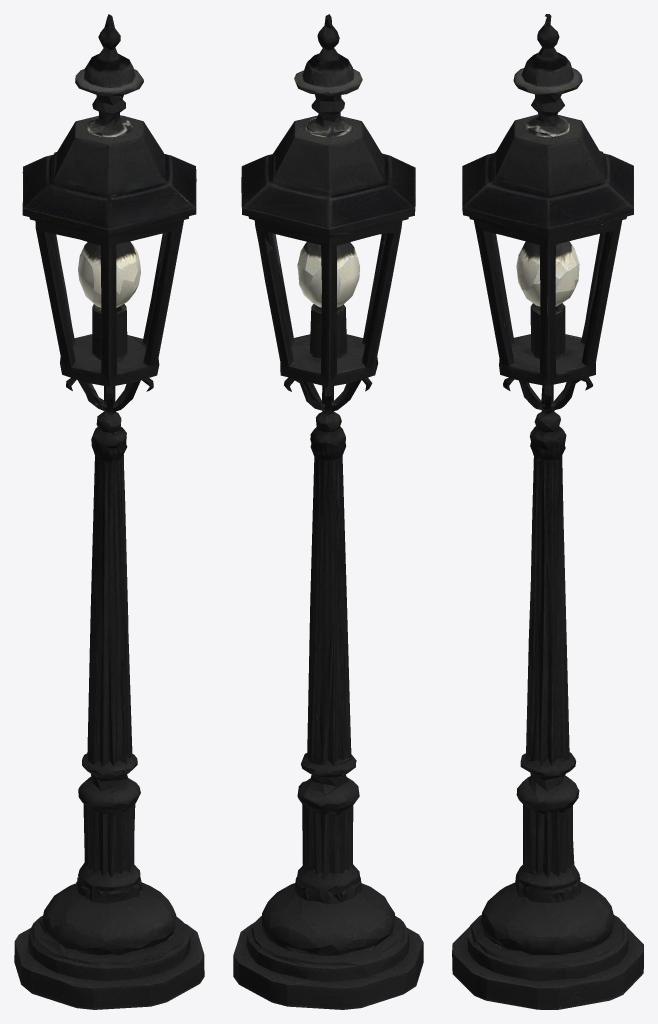
File: streetlamp.glb
3 renders of one model, left to right at view 1: azimuth 30°, elevation 25°; view 2: azimuth 150°, elevation 25°; view 3: azimuth 270°, elevation 25°, orthographic.
Size of the model in its own units: 0.3602 by 1.9 by 0.3456.
1 material, 1 textured.
